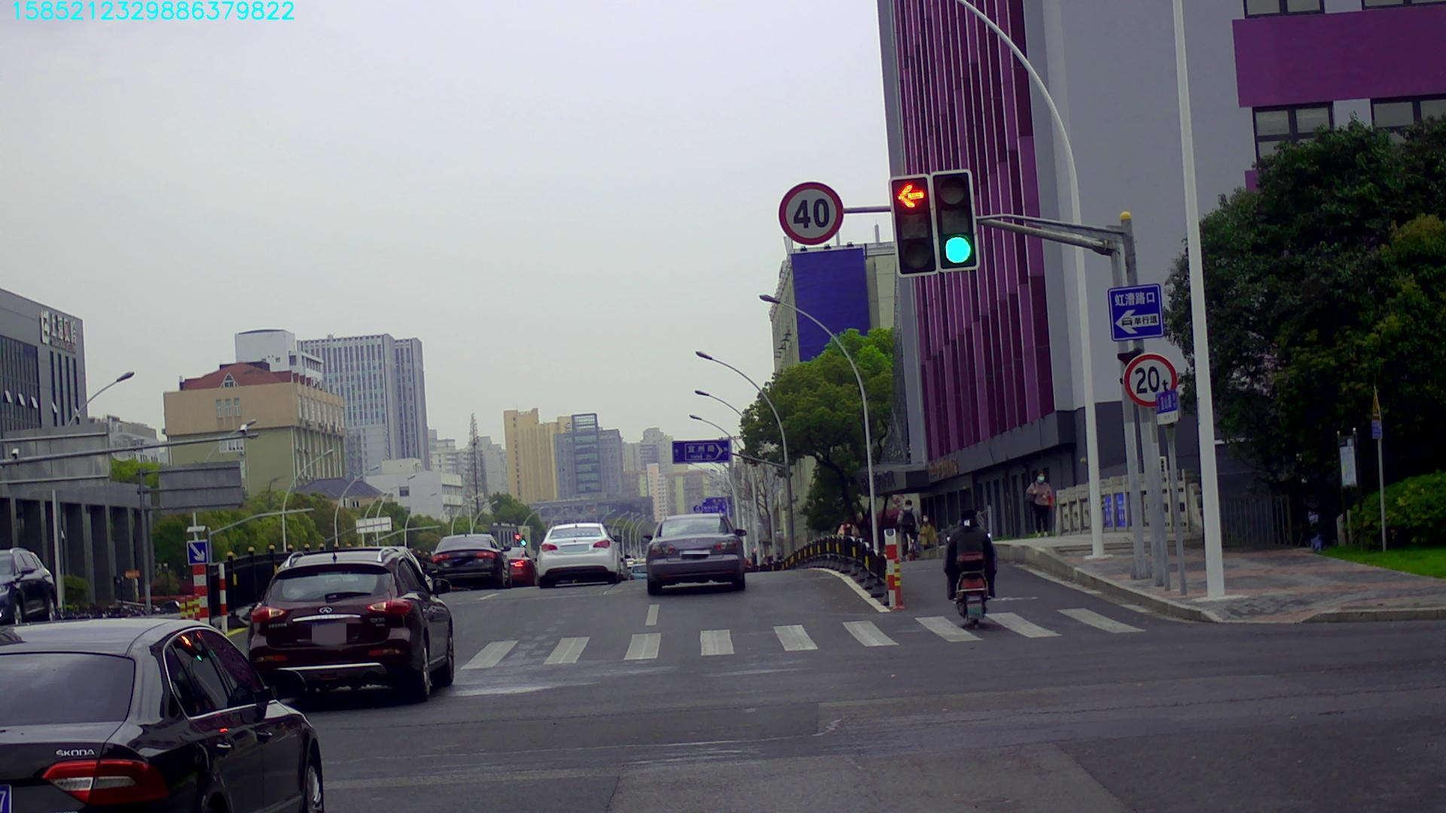green: (932, 172, 976, 267)
red: (891, 178, 937, 273)
